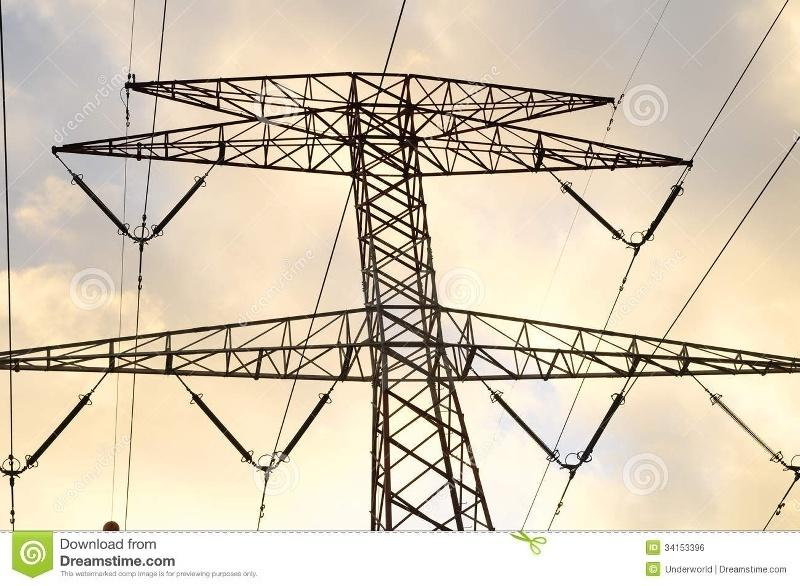power_tower: (42, 45, 741, 519)
